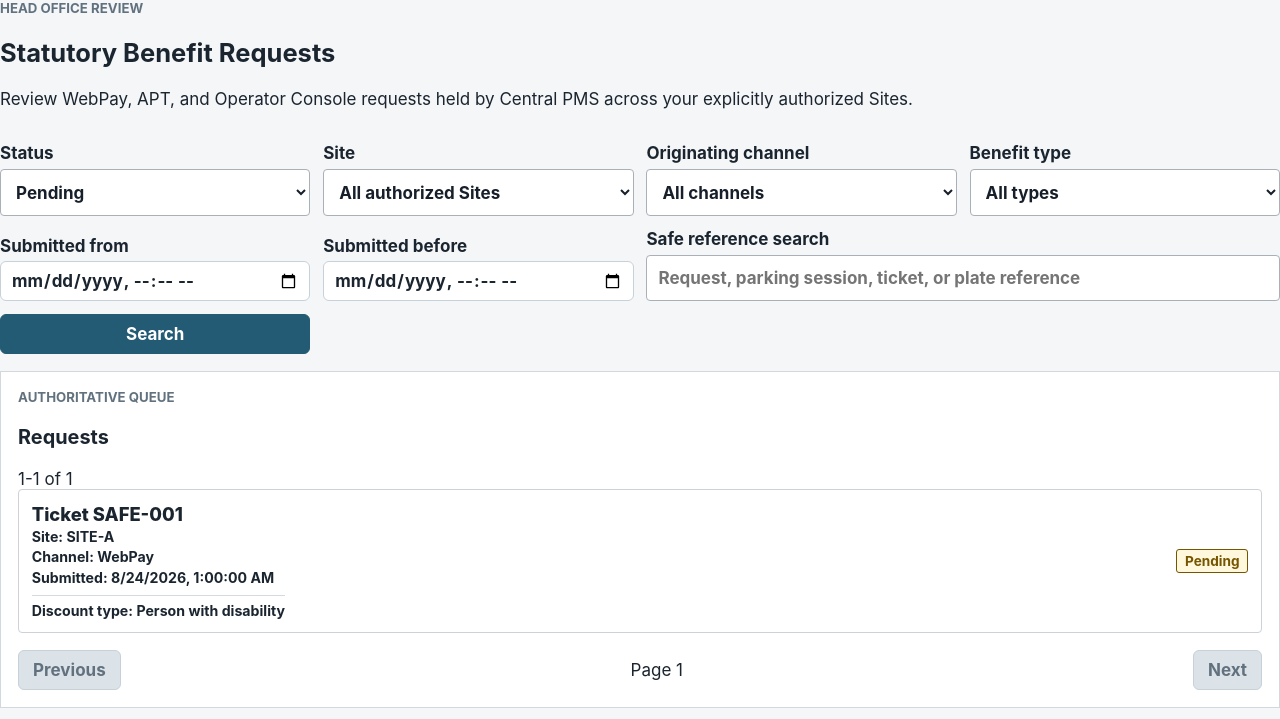
Test: Statutory Benefit Requests › renders a protected image/jpeg preview
Click the button named "Person with disability" at (640, 561), box [18,489,1262,633]
(page scrolled)
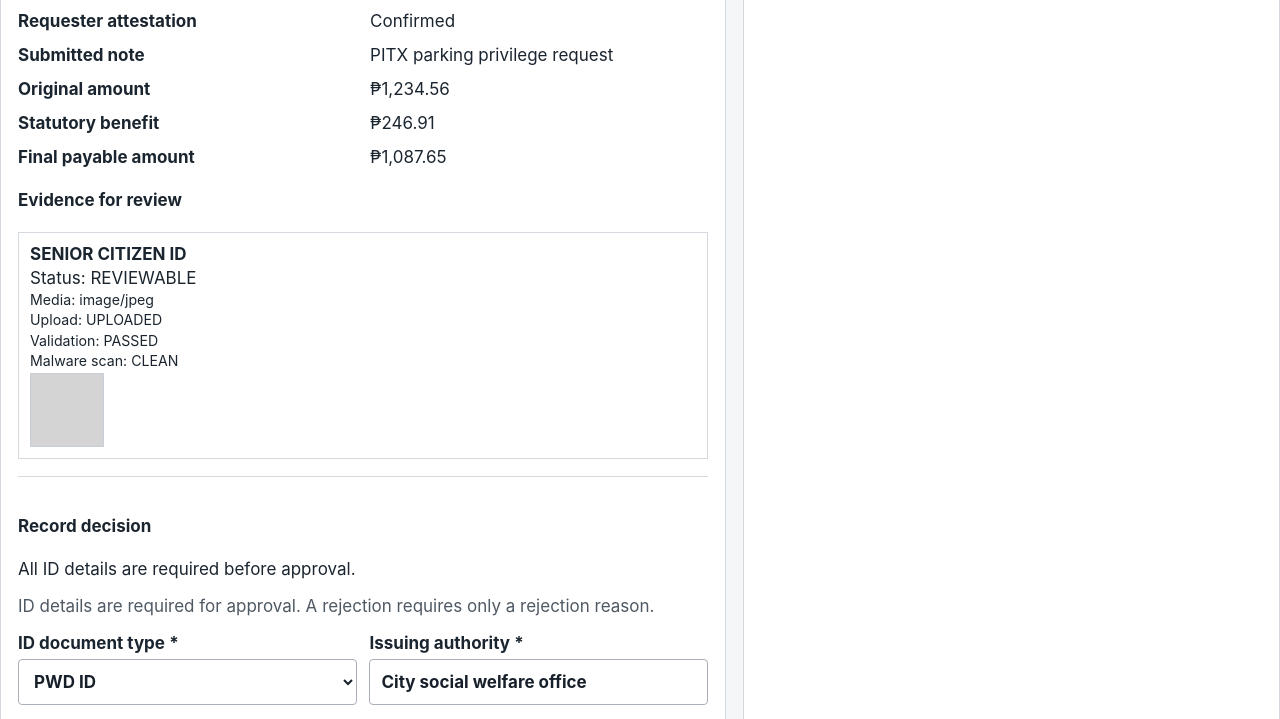
expect the text "Status: REVIEWABLE" is shown: met, box [30,268,196,288]
expect the text "Upload: UPLOADED" is shown: met, box [30,311,162,328]
expect the text "Validation: PASSED" is shown: met, box [30,332,158,349]
